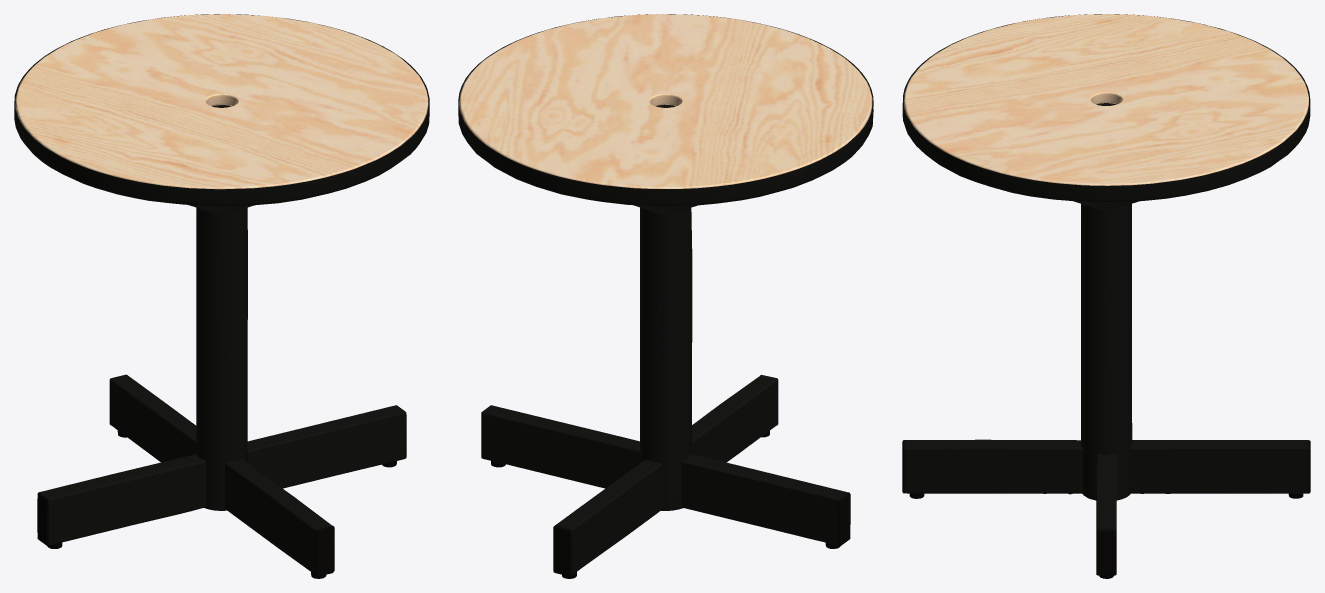
3 views of the same model, side by side, from view 1: azimuth 30°, elevation 25°; view 2: azimuth 150°, elevation 25°; view 3: azimuth 270°, elevation 25° (orthographic).
Parts seen in each view (by area): view 1: ASY_ART_00589090_S01_NV01; view 2: ASY_ART_00589090_S01_NV01; view 3: ASY_ART_00589090_S01_NV01.
Part boxes in pixels (box(x1,y1,x2,y2)): ASY_ART_00589090_S01_NV01: box(14, 14, 429, 578); ASY_ART_00589090_S01_NV01: box(458, 14, 873, 578); ASY_ART_00589090_S01_NV01: box(902, 14, 1310, 578).
Size of the model in its own units: 0.4008 by 0.4301 by 0.4007.
1 material, 1 textured.
